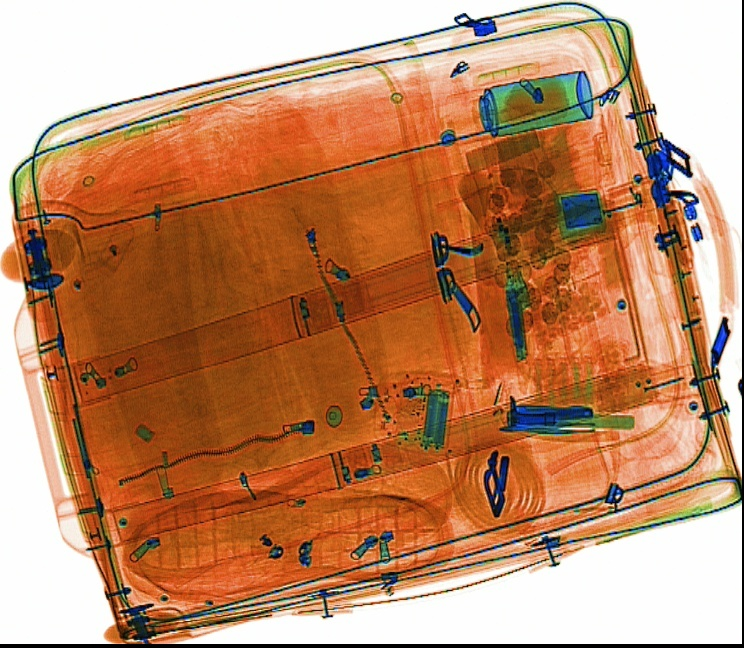pressure: (475, 68, 595, 140)
